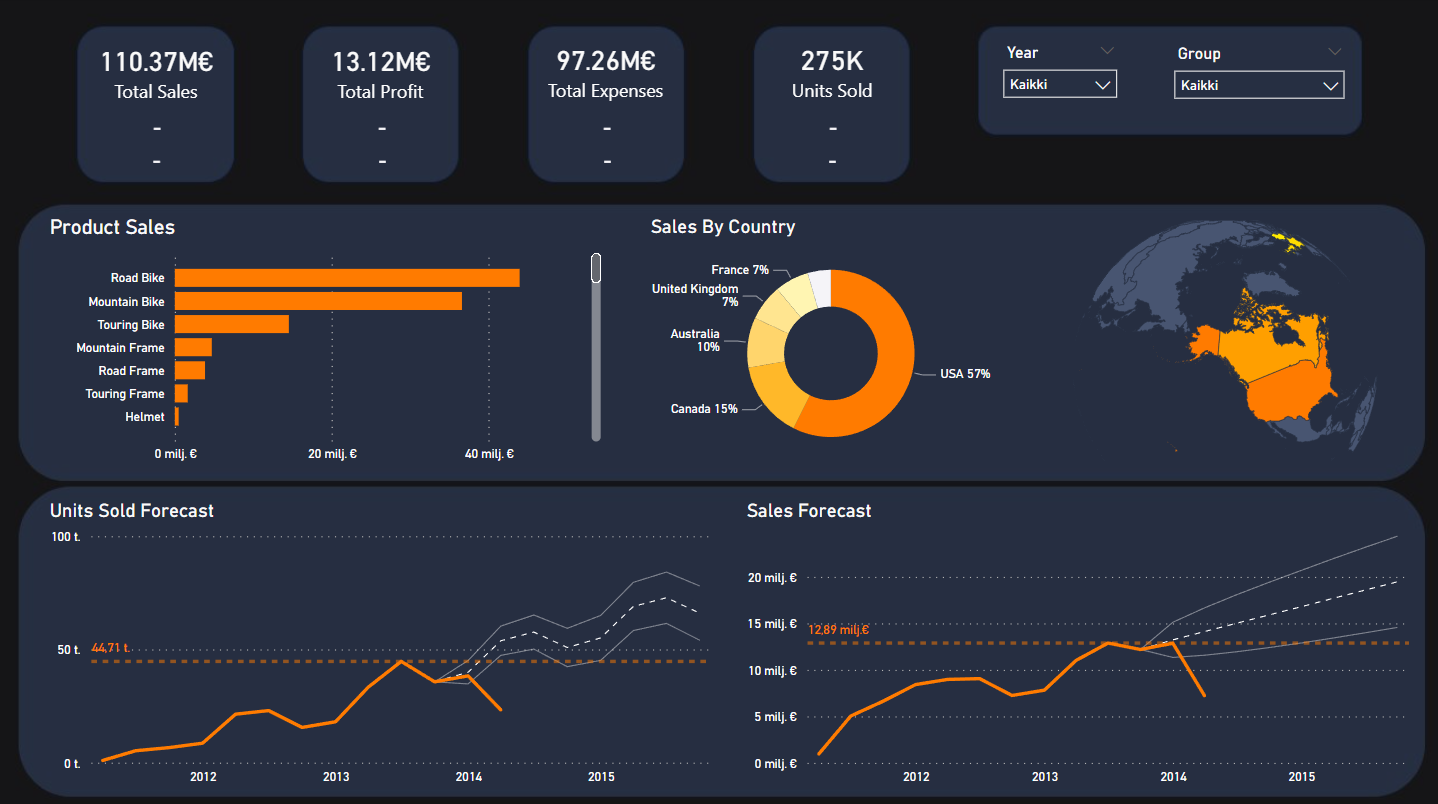

The page's visual inventory and layout, read from the dashboard file:
{"tool":"powerbi","page":{"name":"Sivu 1","canvas":[1280,720],"ordinal":0},"visuals":[{"type":"clusteredBarChart","title":"Product Sales","fields":{"Category":["Production Product.ProductCategory","Production Product.Name"],"Y":["Sales SalesOrderDetail.Total Sales"]},"box":[41,192.8,498.6,225.8],"z":0},{"type":"slicer","fields":{"Values":["Sales SalesTerritory.Group"]},"box":[1033,36.1,171.4,58.6],"z":1000},{"type":"shapeMap","fields":{"Category":["Sales SalesTerritory.CountryNames"],"Value":["Sales SalesOrderDetail.Total Sales"]},"box":[889.3,192.8,368.7,225.8],"z":2000},{"type":"slicer","fields":{"Values":["Sales SalesOrderDetail.ModifiedDate.Vaihtelu.Päivämäärähierarkia.Vuosi"]},"box":[881.2,35.6,120.9,70.9],"z":3000},{"type":"advanceCardE03760C5AB684758B56AA29F9E6C257B","fields":{"mainMeasure":["Production ProductCostHistory.Total Expenses"]},"box":[469.3,28.6,139.7,70.3],"z":5000},{"type":"donutChart","title":"Sales By Country","fields":{"Category":["Sales SalesTerritory.CountryNames"],"Y":["Sales SalesOrderDetail.Total Sales"]},"box":[573.4,192.6,329.6,226.4],"z":6000},{"type":"advanceCardE03760C5AB684758B56AA29F9E6C257B","fields":{"mainMeasure":["Sales SalesOrderDetail.Total Profit"]},"box":[269.8,29.5,139.7,70.3],"z":7000},{"type":"advanceCardE03760C5AB684758B56AA29F9E6C257B","fields":{"mainMeasure":["Sales SalesOrderDetail.Units Sold"]},"box":[669.7,28.6,140.5,70.3],"z":8000},{"type":"advanceCardE03760C5AB684758B56AA29F9E6C257B","fields":{"mainMeasure":["Sales SalesOrderDetail.Percentage Difference"]},"box":[70.6,99.4,140,30.7],"z":9000},{"type":"advanceCardE03760C5AB684758B56AA29F9E6C257B","fields":{"mainMeasure":["Sales SalesOrderDetail.Total Profit Percentage Difference"]},"box":[270.3,99.4,140,30],"z":10000},{"type":"advanceCardE03760C5AB684758B56AA29F9E6C257B","fields":{"mainMeasure":["Production ProductCostHistory.Total Expenses Percentage Difference"]},"box":[470.1,99.4,140.1,30.7],"z":11000},{"type":"advanceCardE03760C5AB684758B56AA29F9E6C257B","fields":{"mainMeasure":["Sales SalesOrderDetail.Units Sold Percentage Difference"]},"box":[670,99.4,140.1,29.8],"z":12000},{"type":"advanceCardE03760C5AB684758B56AA29F9E6C257B","fields":{"mainMeasure":["Sales SalesOrderDetail.Total Sales"]},"box":[70.3,29.5,140.5,70.3],"z":13000},{"type":"advanceCardE03760C5AB684758B56AA29F9E6C257B","fields":{"mainMeasure":["Sales SalesOrderDetail.Sales Difference"]},"box":[90.6,128.6,100,30],"z":14000},{"type":"advanceCardE03760C5AB684758B56AA29F9E6C257B","fields":{"mainMeasure":["Sales SalesOrderDetail.Units Sold Difference"]},"box":[690.2,128.6,99.9,29.8],"z":15000},{"type":"advanceCardE03760C5AB684758B56AA29F9E6C257B","fields":{"mainMeasure":["Sales SalesOrderDetail.Expense Difference"]},"box":[490.3,128.6,99.9,30],"z":16000},{"type":"advanceCardE03760C5AB684758B56AA29F9E6C257B","fields":{"mainMeasure":["Sales SalesOrderDetail.Profit Difference"]},"box":[290.5,128.6,99.9,30.7],"z":17000},{"type":"lineChart","title":"Units Sold Forecast","fields":{"Category":["Sales SalesOrderDetail.ModifiedDate.Vaihtelu.Päivämäärähierarkia.Vuosi","Sales SalesOrderDetail.ModifiedDate.Vaihtelu.Päivämäärähierarkia.Vuosineljännes"],"Y":["Sales SalesOrderDetail.Units Sold"]},"box":[41,444.7,599.5,259.8],"z":18000},{"type":"lineChart","title":"Sales Forecast","fields":{"Category":["Sales SalesOrderDetail.ModifiedDate.Vaihtelu.Päivämäärähierarkia.Vuosi","Sales SalesOrderDetail.ModifiedDate.Vaihtelu.Päivämäärähierarkia.Vuosineljännes"],"Y":["Sales SalesOrderDetail.Total Sales"]},"box":[658.5,444.7,600,260],"z":19000}]}

Visuals, with their boxes in screenshot pixels (x1, y1, x2, y2), scaled from the page's 1280x720 canvas onto the 1438x804 screenshot:
"Product Sales" clusteredBarChart: box=[46, 215, 606, 467]
slicer - Sales SalesTerritory.Group: box=[1161, 40, 1353, 106]
shapeMap - Sales SalesTerritory.CountryNames x Sales SalesOrderDetail.Total Sales: box=[999, 215, 1413, 467]
slicer - Sales SalesOrderDetail.ModifiedDate.Vaihtelu.Päivämäärähierarkia.Vuosi: box=[990, 40, 1126, 119]
advanceCardE03760C5AB684758B56AA29F9E6C257B - Production ProductCostHistory.Total Expenses: box=[527, 32, 684, 110]
"Sales By Country" donutChart: box=[644, 215, 1014, 468]
advanceCardE03760C5AB684758B56AA29F9E6C257B - Sales SalesOrderDetail.Total Profit: box=[303, 33, 460, 111]
advanceCardE03760C5AB684758B56AA29F9E6C257B - Sales SalesOrderDetail.Units Sold: box=[752, 32, 910, 110]
advanceCardE03760C5AB684758B56AA29F9E6C257B - Sales SalesOrderDetail.Percentage Difference: box=[79, 111, 237, 145]
advanceCardE03760C5AB684758B56AA29F9E6C257B - Sales SalesOrderDetail.Total Profit Percentage Difference: box=[304, 111, 461, 144]
advanceCardE03760C5AB684758B56AA29F9E6C257B - Production ProductCostHistory.Total Expenses Percentage Difference: box=[528, 111, 686, 145]
advanceCardE03760C5AB684758B56AA29F9E6C257B - Sales SalesOrderDetail.Units Sold Percentage Difference: box=[753, 111, 910, 144]
advanceCardE03760C5AB684758B56AA29F9E6C257B - Sales SalesOrderDetail.Total Sales: box=[79, 33, 237, 111]
advanceCardE03760C5AB684758B56AA29F9E6C257B - Sales SalesOrderDetail.Sales Difference: box=[102, 144, 214, 177]
advanceCardE03760C5AB684758B56AA29F9E6C257B - Sales SalesOrderDetail.Units Sold Difference: box=[775, 144, 888, 177]
advanceCardE03760C5AB684758B56AA29F9E6C257B - Sales SalesOrderDetail.Expense Difference: box=[551, 144, 663, 177]
advanceCardE03760C5AB684758B56AA29F9E6C257B - Sales SalesOrderDetail.Profit Difference: box=[326, 144, 439, 178]
"Units Sold Forecast" lineChart: box=[46, 497, 720, 787]
"Sales Forecast" lineChart: box=[740, 497, 1414, 787]
